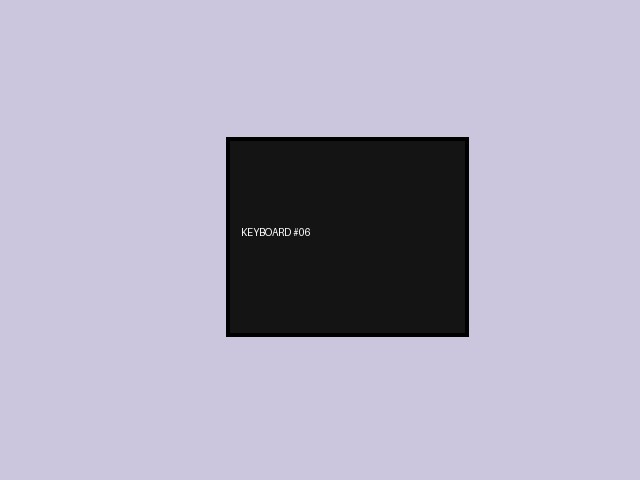keyboard: (226, 137, 468, 336)
